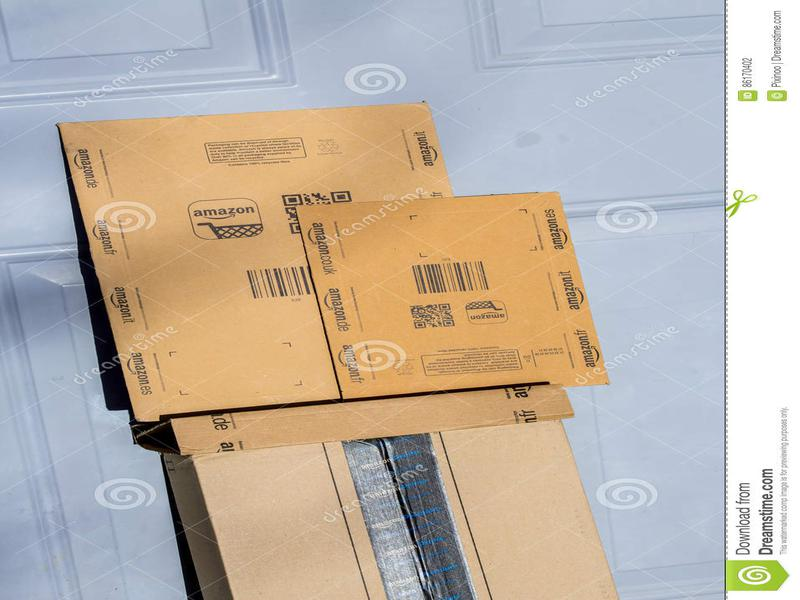package: (47, 91, 454, 432), (144, 413, 629, 586), (289, 186, 617, 399)
